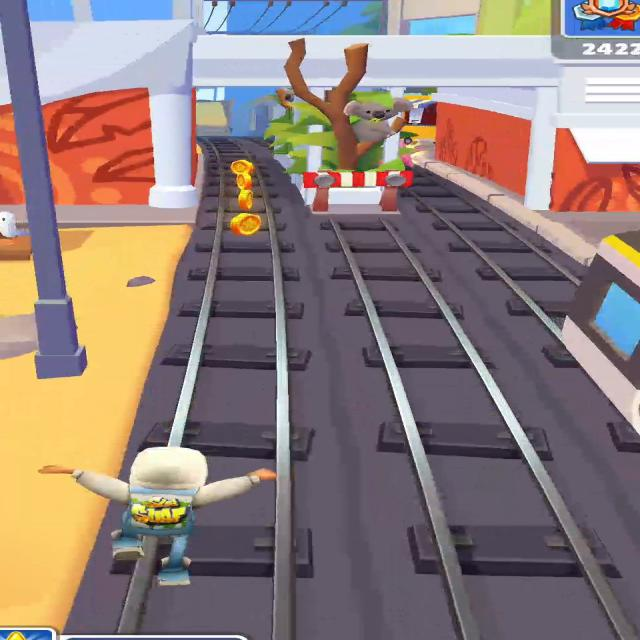block pillar: (265, 38, 412, 213)
train: (561, 230, 639, 435)
